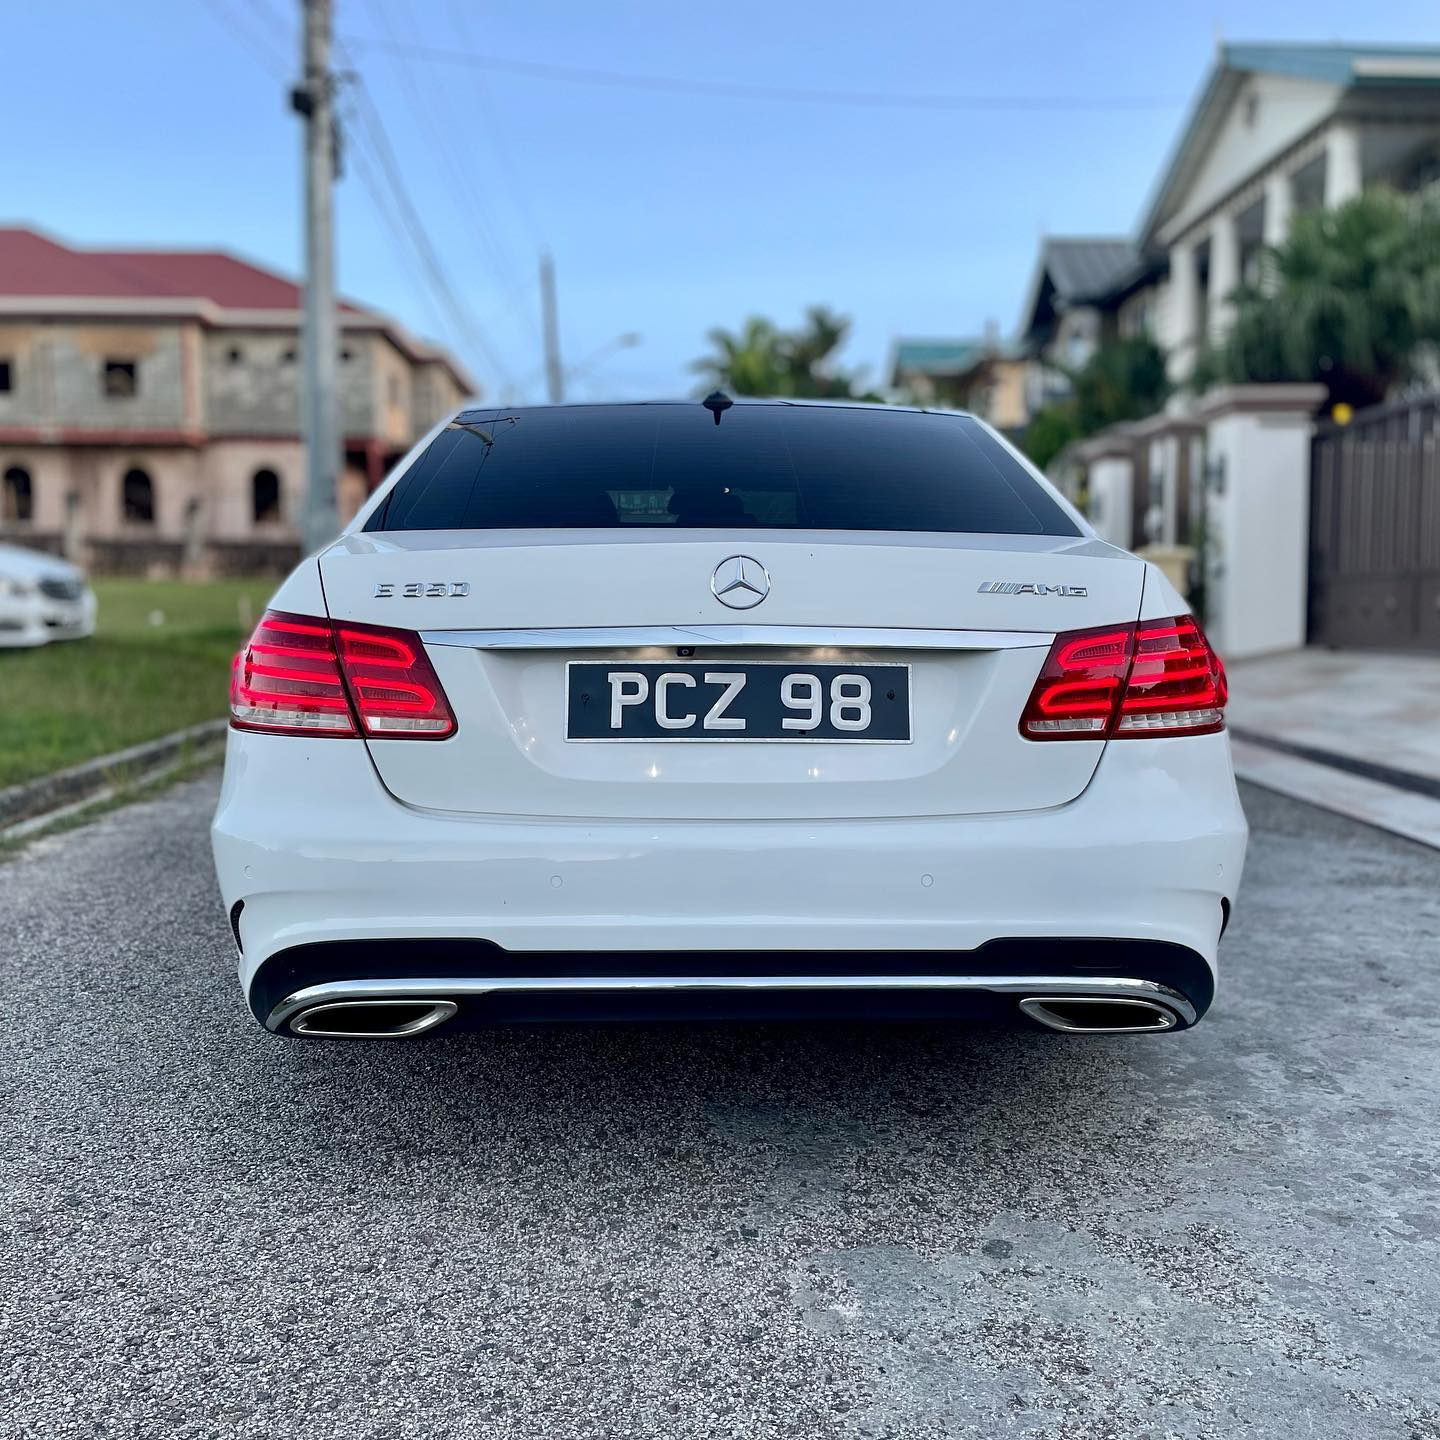License-Plate: (567, 663, 909, 740)
